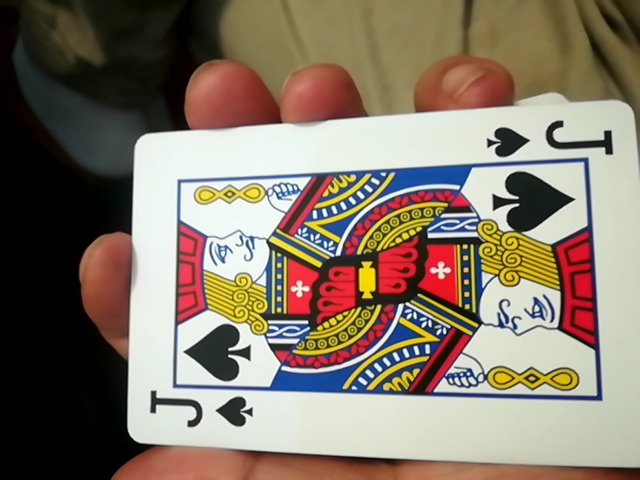ht j: (101, 104, 631, 471)
